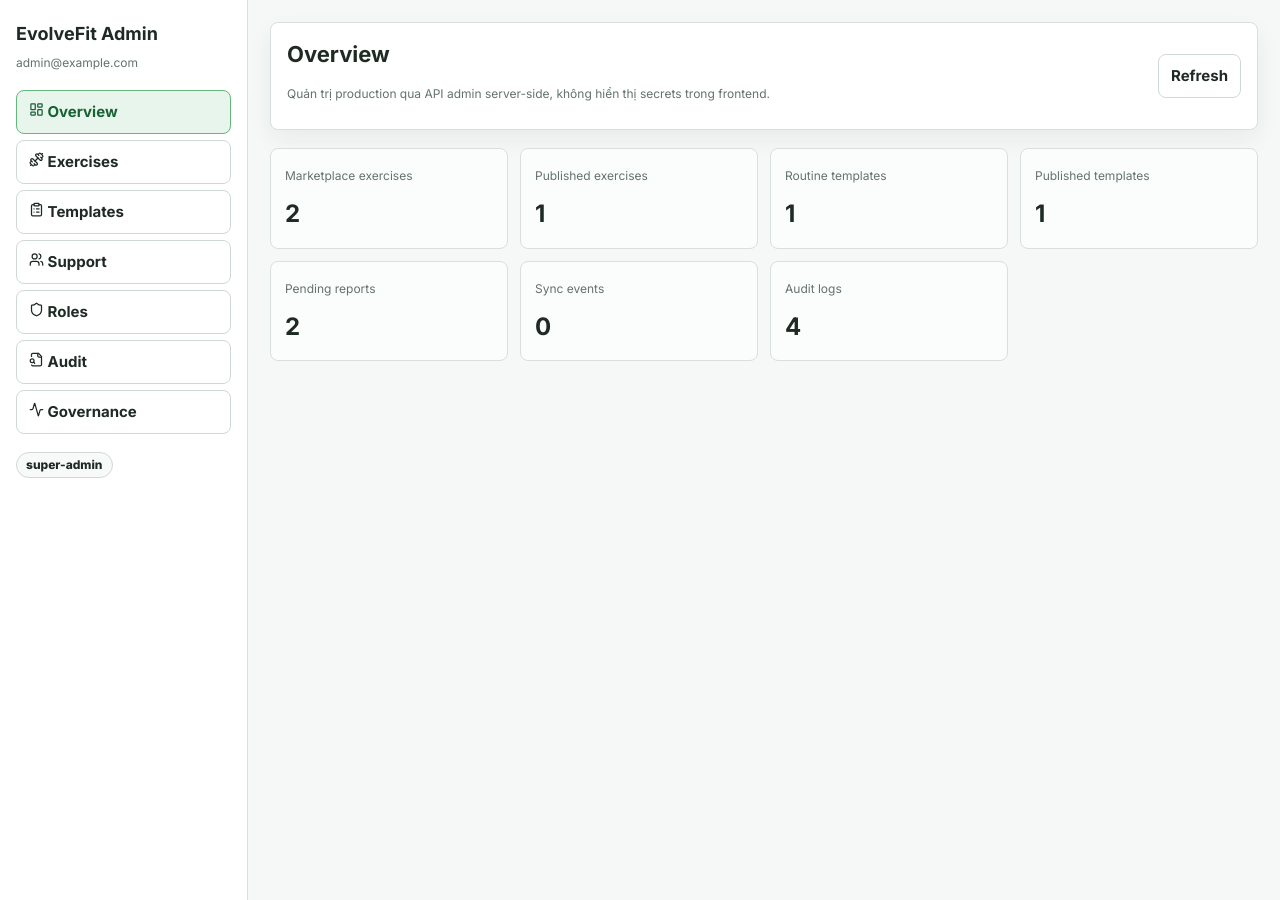
Test: Admin operations dashboard › shows support redaction, audit search and governance health
Click the button "Support" at coordinates (124, 262), box [16,240,231,284]
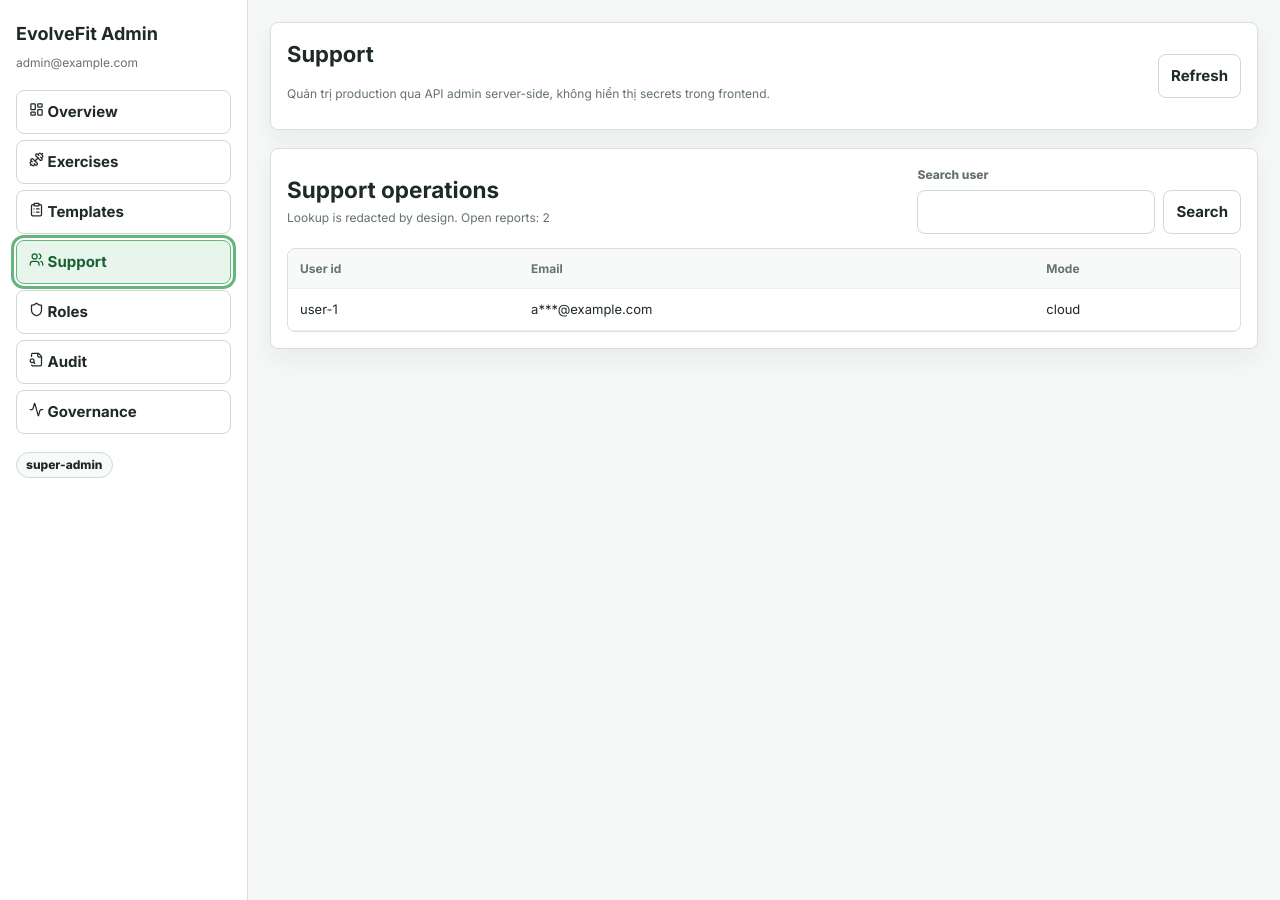
Now the text "a***@example.com" is shown, box [519,288,1034,330]
Now the text "Lookup is redacted by design. Open reports: 2" is shown, box [287,208,550,227]
Click the button "Audit" at coordinates (124, 362), box [16,340,231,384]
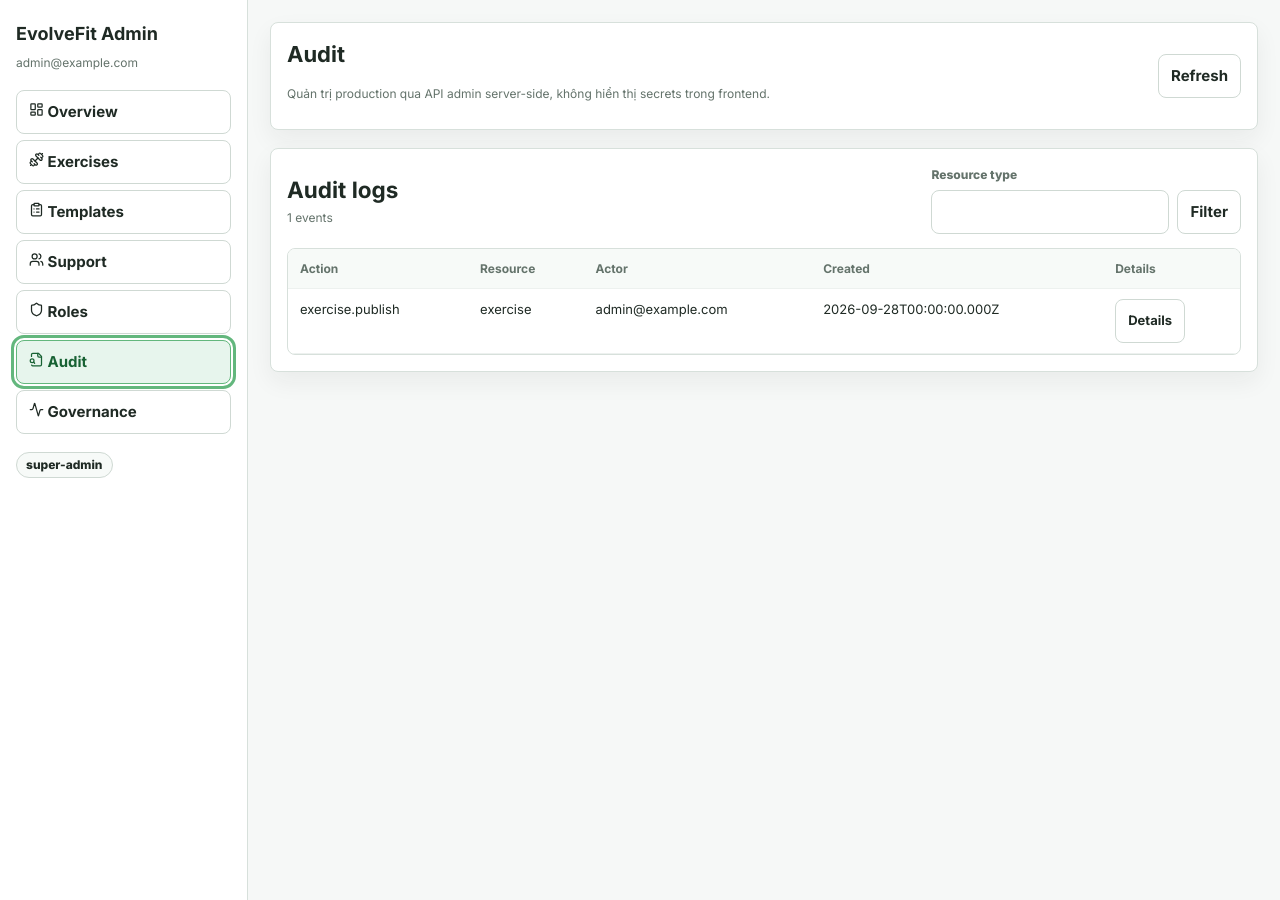
Expected: the text "req_1" is not shown
Now the text "exercise.publish" is shown, box [288,288,468,353]
Click the button "Details" at coordinates (1150, 321), box [1115,299,1185,343]
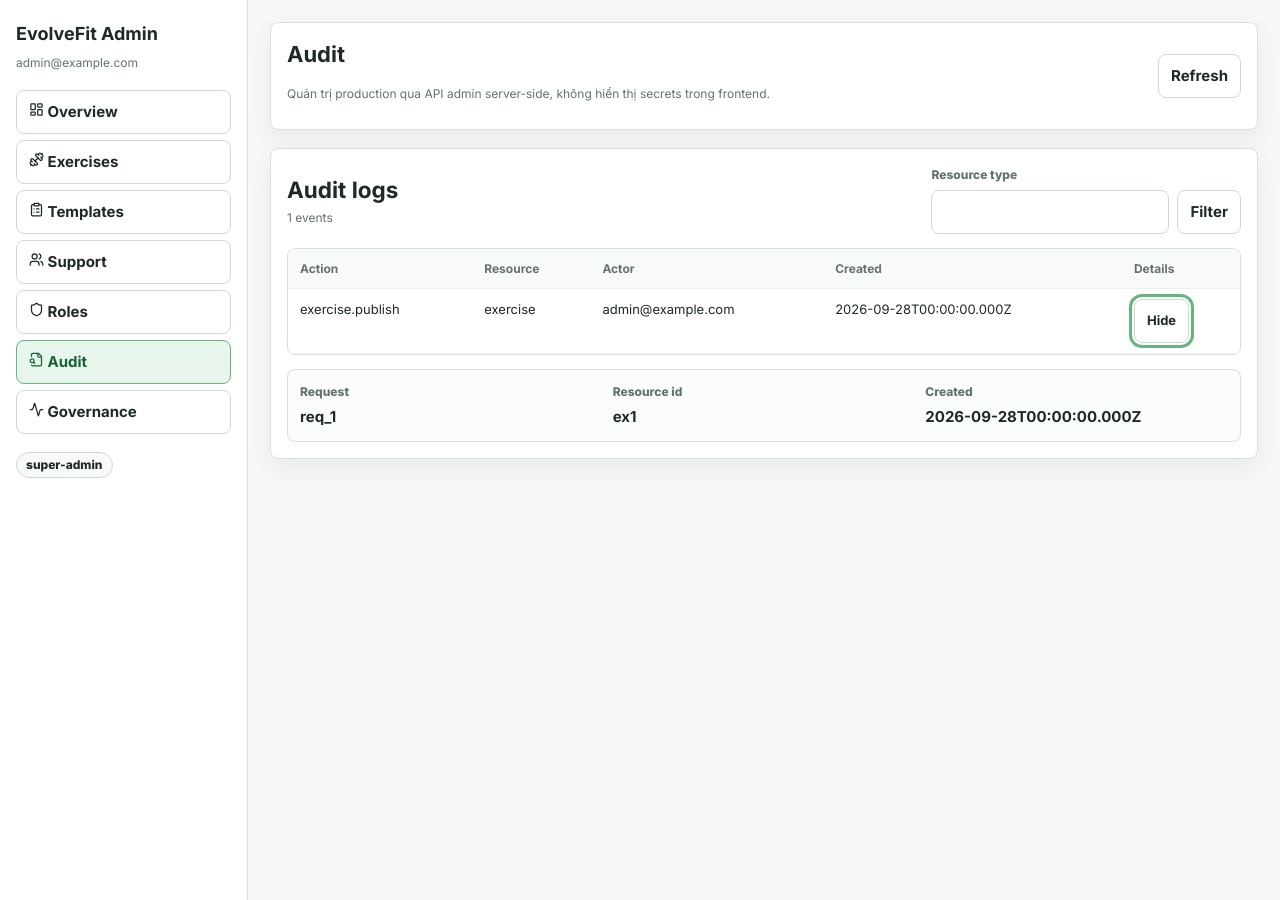
Now the text "req_1" is shown, box [300,407,336,426]
Click the button "Governance" at coordinates (124, 412), box [16,390,231,434]
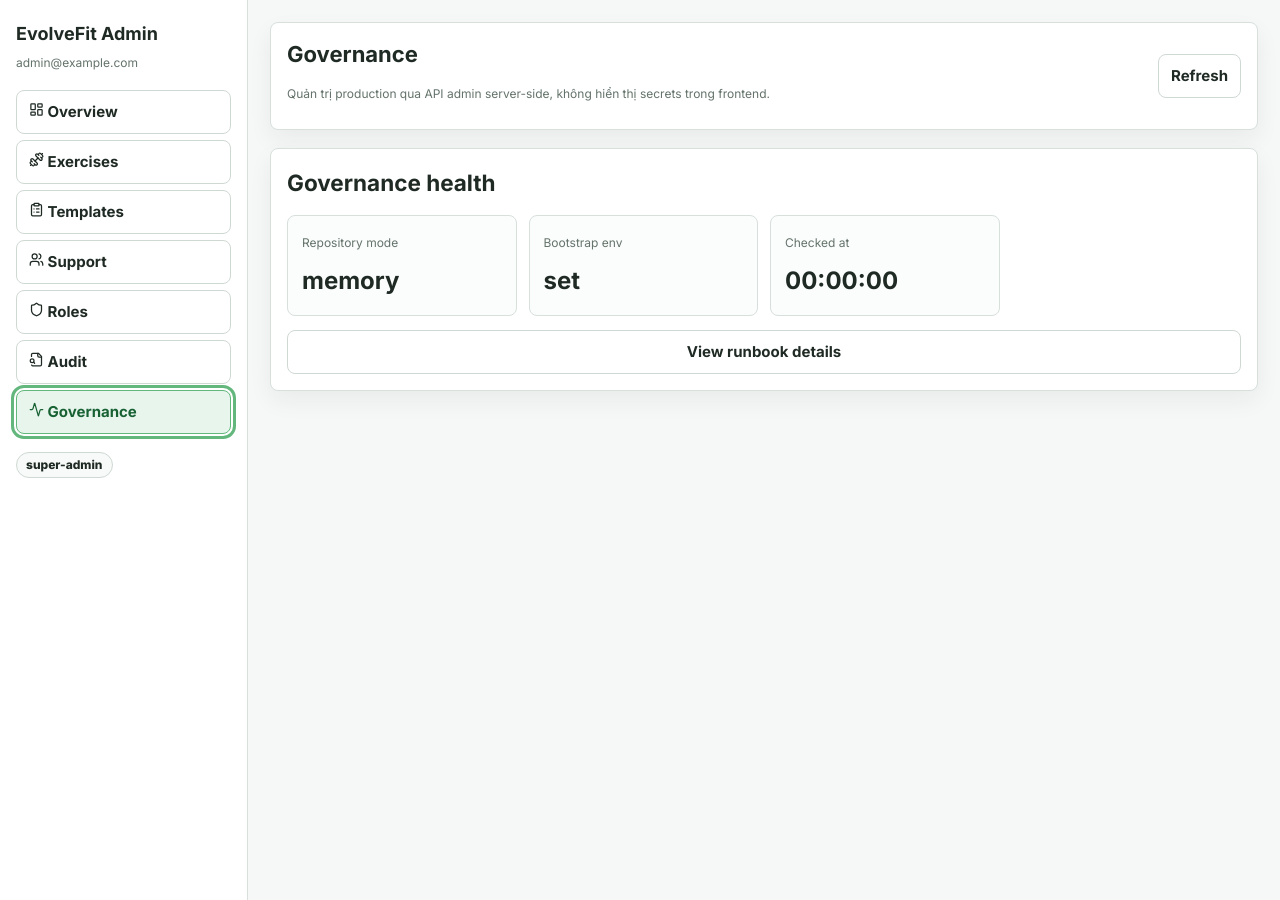
Now the text "memory" is shown, box [302,266,399,295]
Now the text "set" is shown, box [544,266,580,295]
